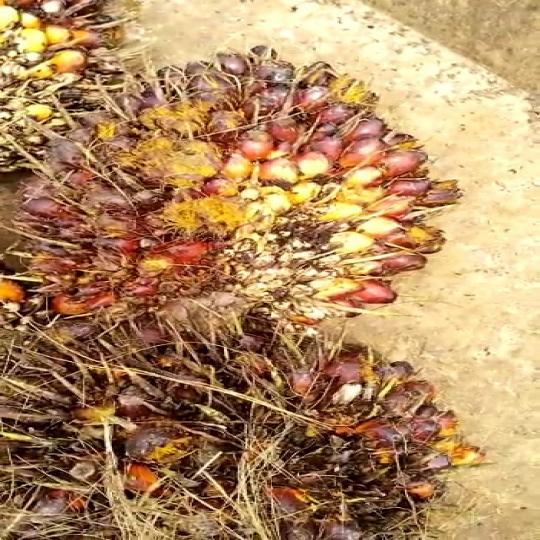masak: (22, 26, 444, 351)
